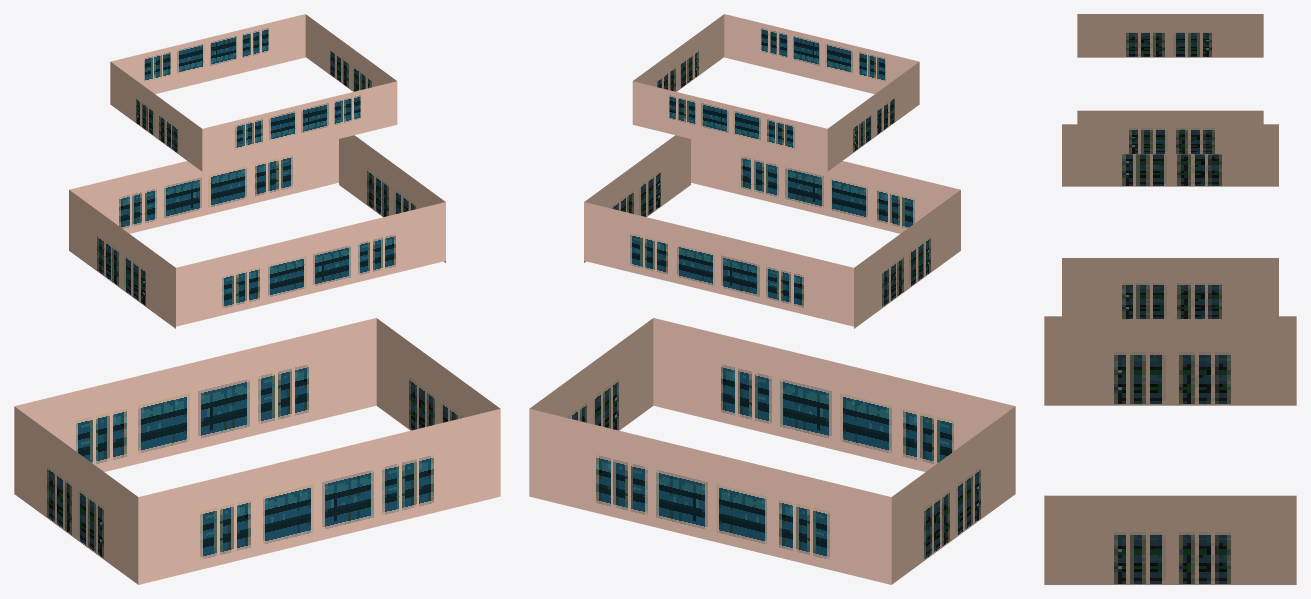
3 renders of one model, left to right at view 1: azimuth 30°, elevation 25°; view 2: azimuth 150°, elevation 25°; view 3: azimuth 270°, elevation 25°, orthographic.
Parts seen in each view (by area): view 1: obj-129; view 2: obj-129; view 3: obj-129.
Boxes of the visible parts, bbox=[...] form: obj-129: bbox=[14, 14, 500, 584]; obj-129: bbox=[529, 14, 1015, 584]; obj-129: bbox=[1044, 14, 1296, 584].
Size of the model in its own units: 5.96 by 6.68 by 3.54.
1 material, 1 textured.
